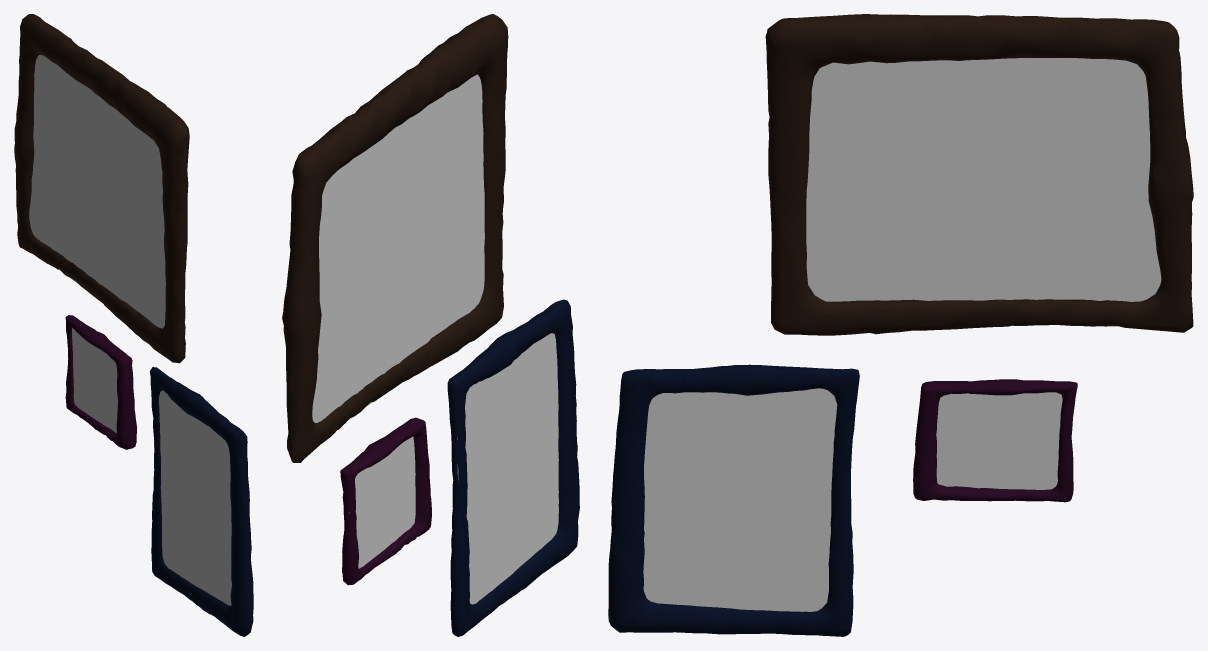
Rendered from msh_Picture_01.fbx.
3 views of the same model, side by side, from view 1: azimuth 30°, elevation 25°; view 2: azimuth 150°, elevation 25°; view 3: azimuth 270°, elevation 25° (orthographic). The views are drawn at different scales.
Parts seen in each view (by area): view 1: picture; view 2: picture; view 3: picture.
Boxes of the visible parts, x1,y1,x2,y2 form: picture: (14,14,253,636); picture: (282,14,579,636); picture: (608,14,1193,636).
Bounding box in the file's own units: 0.0853 × 1.53 × 1.32.
